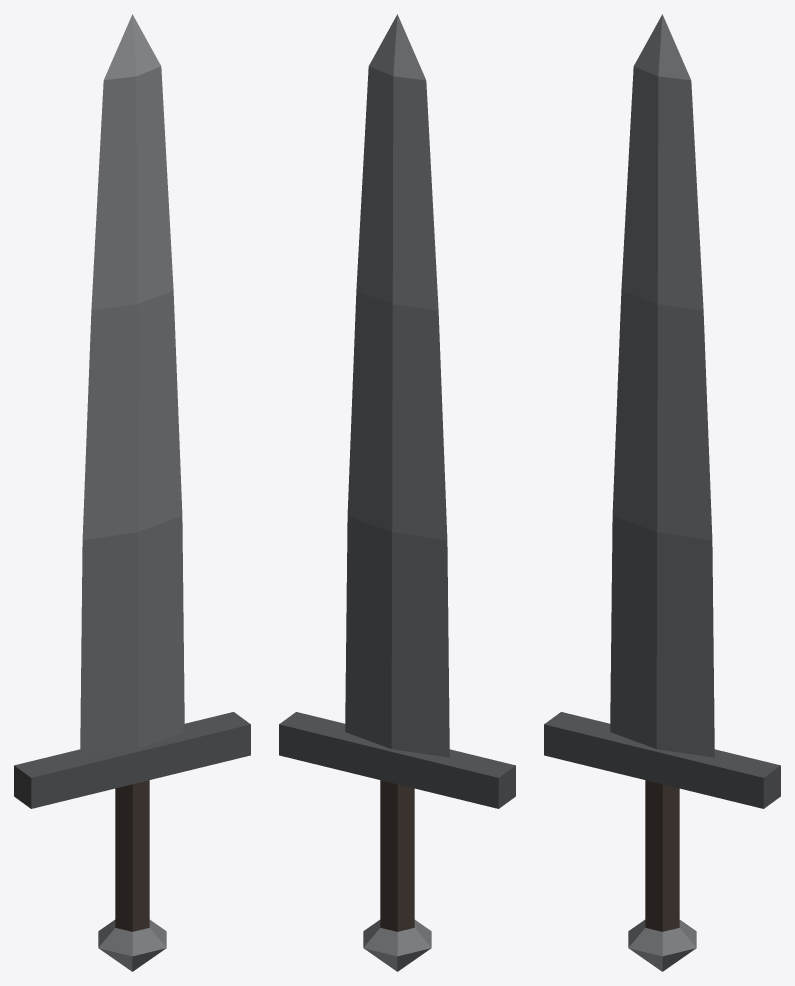
The model's file is sword_broad_iron_s1011.glb.
The picture shows the model from 3 angles, left to right: view 1: azimuth 30°, elevation 25°; view 2: azimuth 150°, elevation 25°; view 3: azimuth 330°, elevation 25°; orthographic projection.
Visible parts, largest first — view 1: sword_broad_iron_s1011; view 2: sword_broad_iron_s1011; view 3: sword_broad_iron_s1011.
Boxes of the visible parts, left/top/right/bottom form: sword_broad_iron_s1011: left=14, top=14, right=250, bottom=971; sword_broad_iron_s1011: left=279, top=14, right=515, bottom=971; sword_broad_iron_s1011: left=544, top=14, right=780, bottom=971.
Bounding box in the file's own units: 0.1923 × 0.8015 × 0.052.
Materials: 1 (1 with a texture image).
